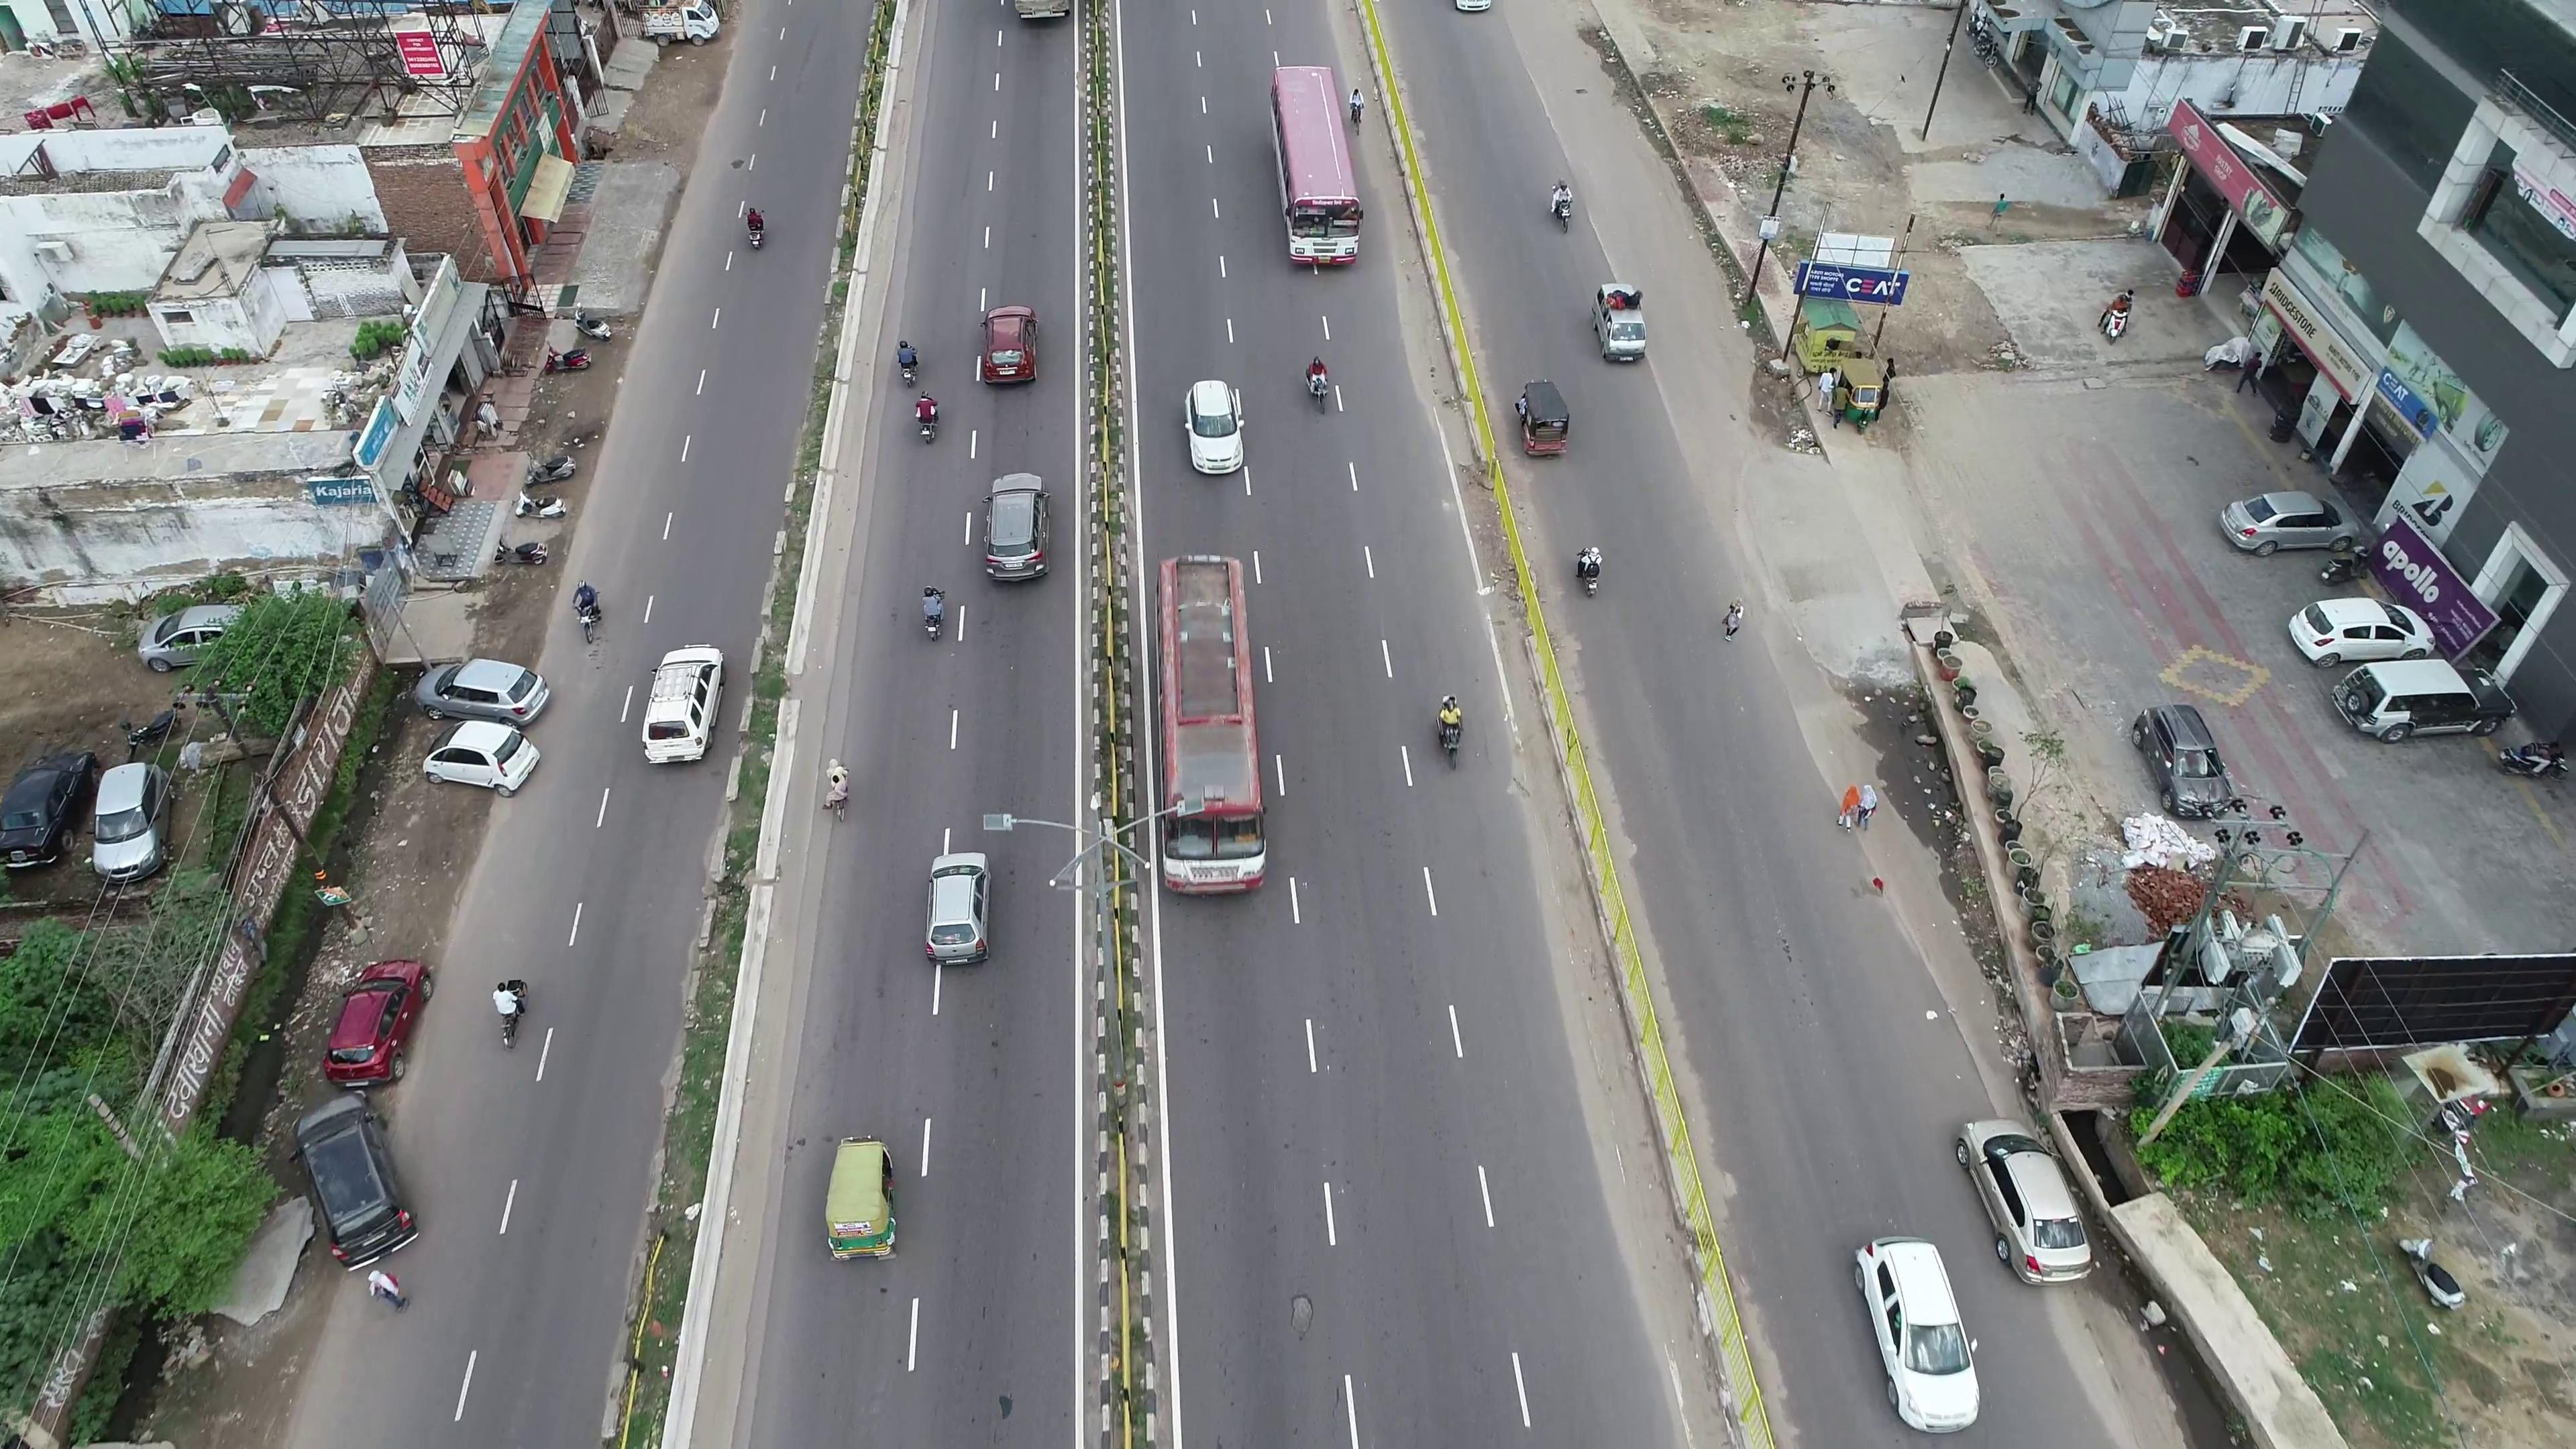Potholes: (1260, 1272, 1338, 1366)
